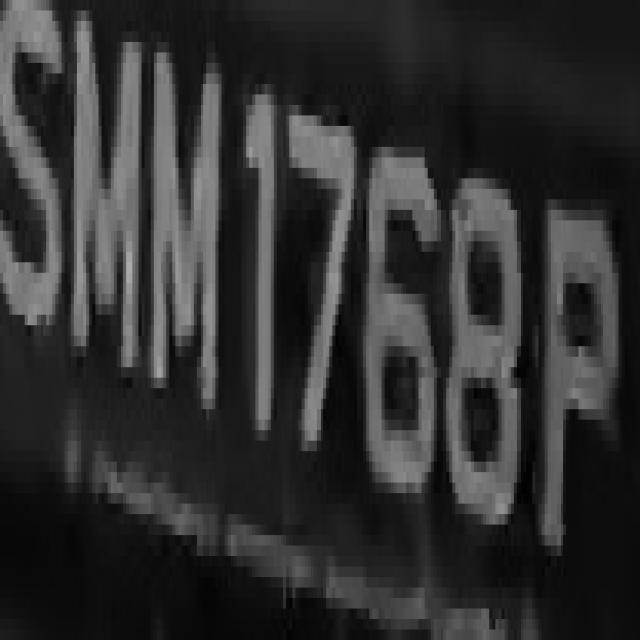1: (234, 63, 286, 451)
6: (360, 84, 443, 525)
7: (277, 53, 360, 514)
8: (440, 136, 526, 566)
M: (64, 11, 148, 430), (150, 11, 228, 430)
P: (532, 147, 628, 577)
S: (0, 0, 71, 367)
